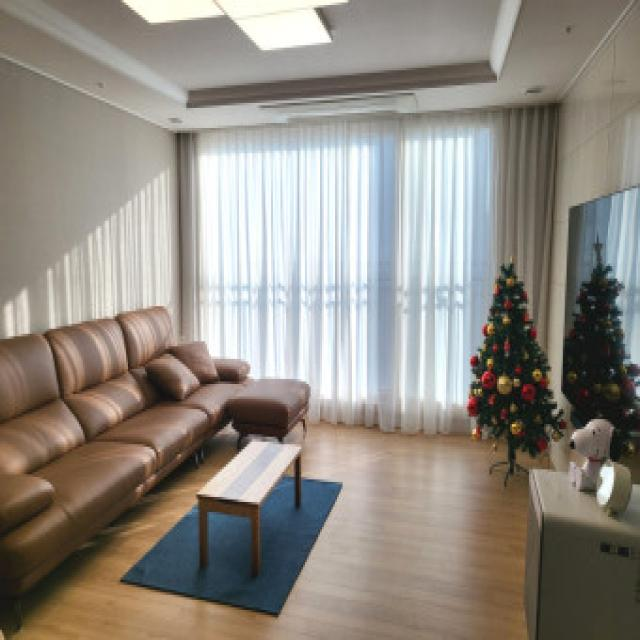Sofa: (4, 304, 305, 620)
Table: (198, 438, 306, 581)
tv: (563, 182, 639, 408)
window: (170, 126, 535, 362)
